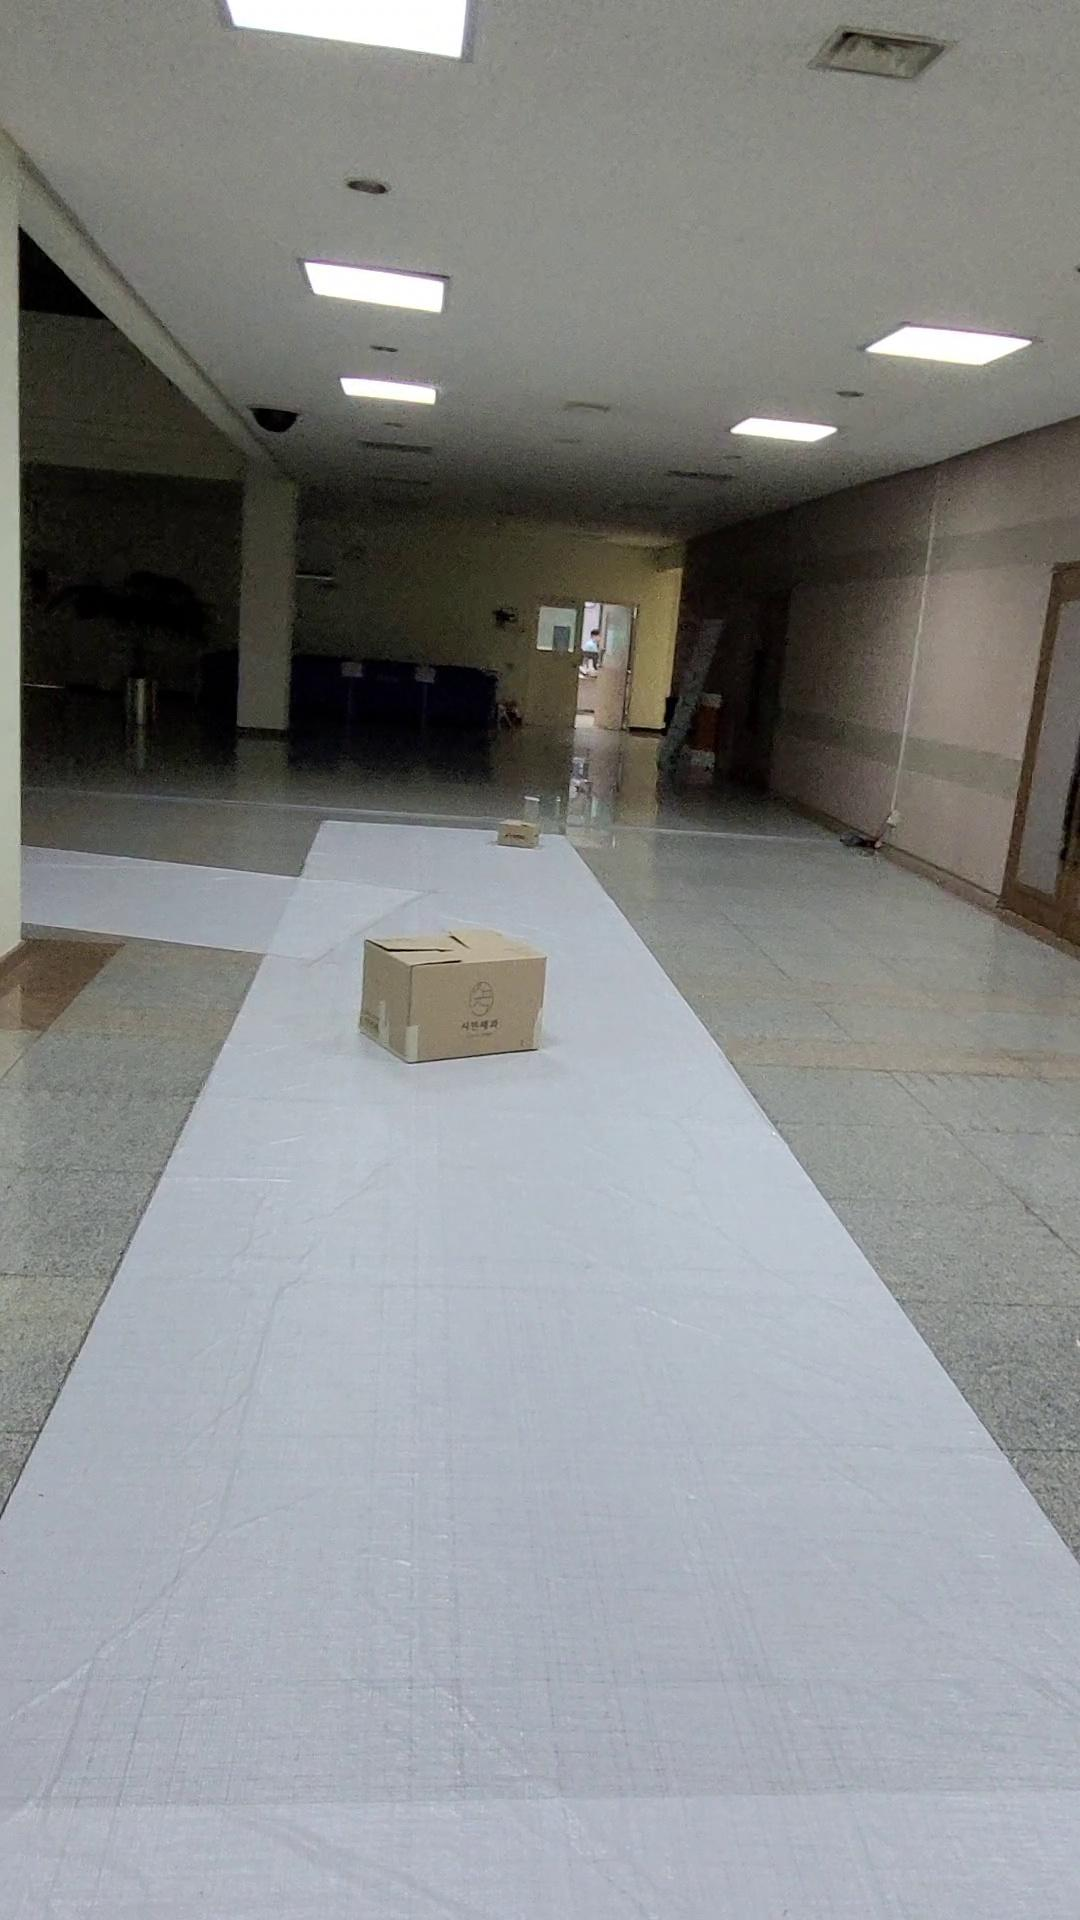Box: (343, 913, 560, 1075), (491, 808, 549, 860)
